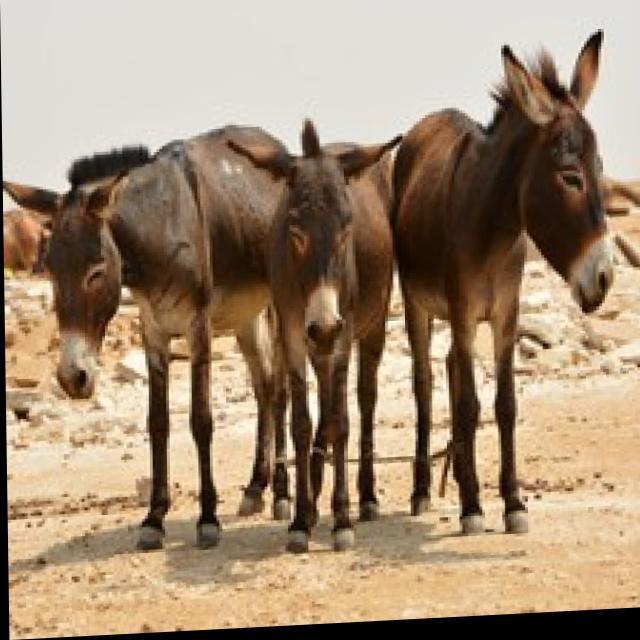Donkey: (15, 68, 294, 587), (379, 22, 620, 570), (218, 41, 412, 581)
